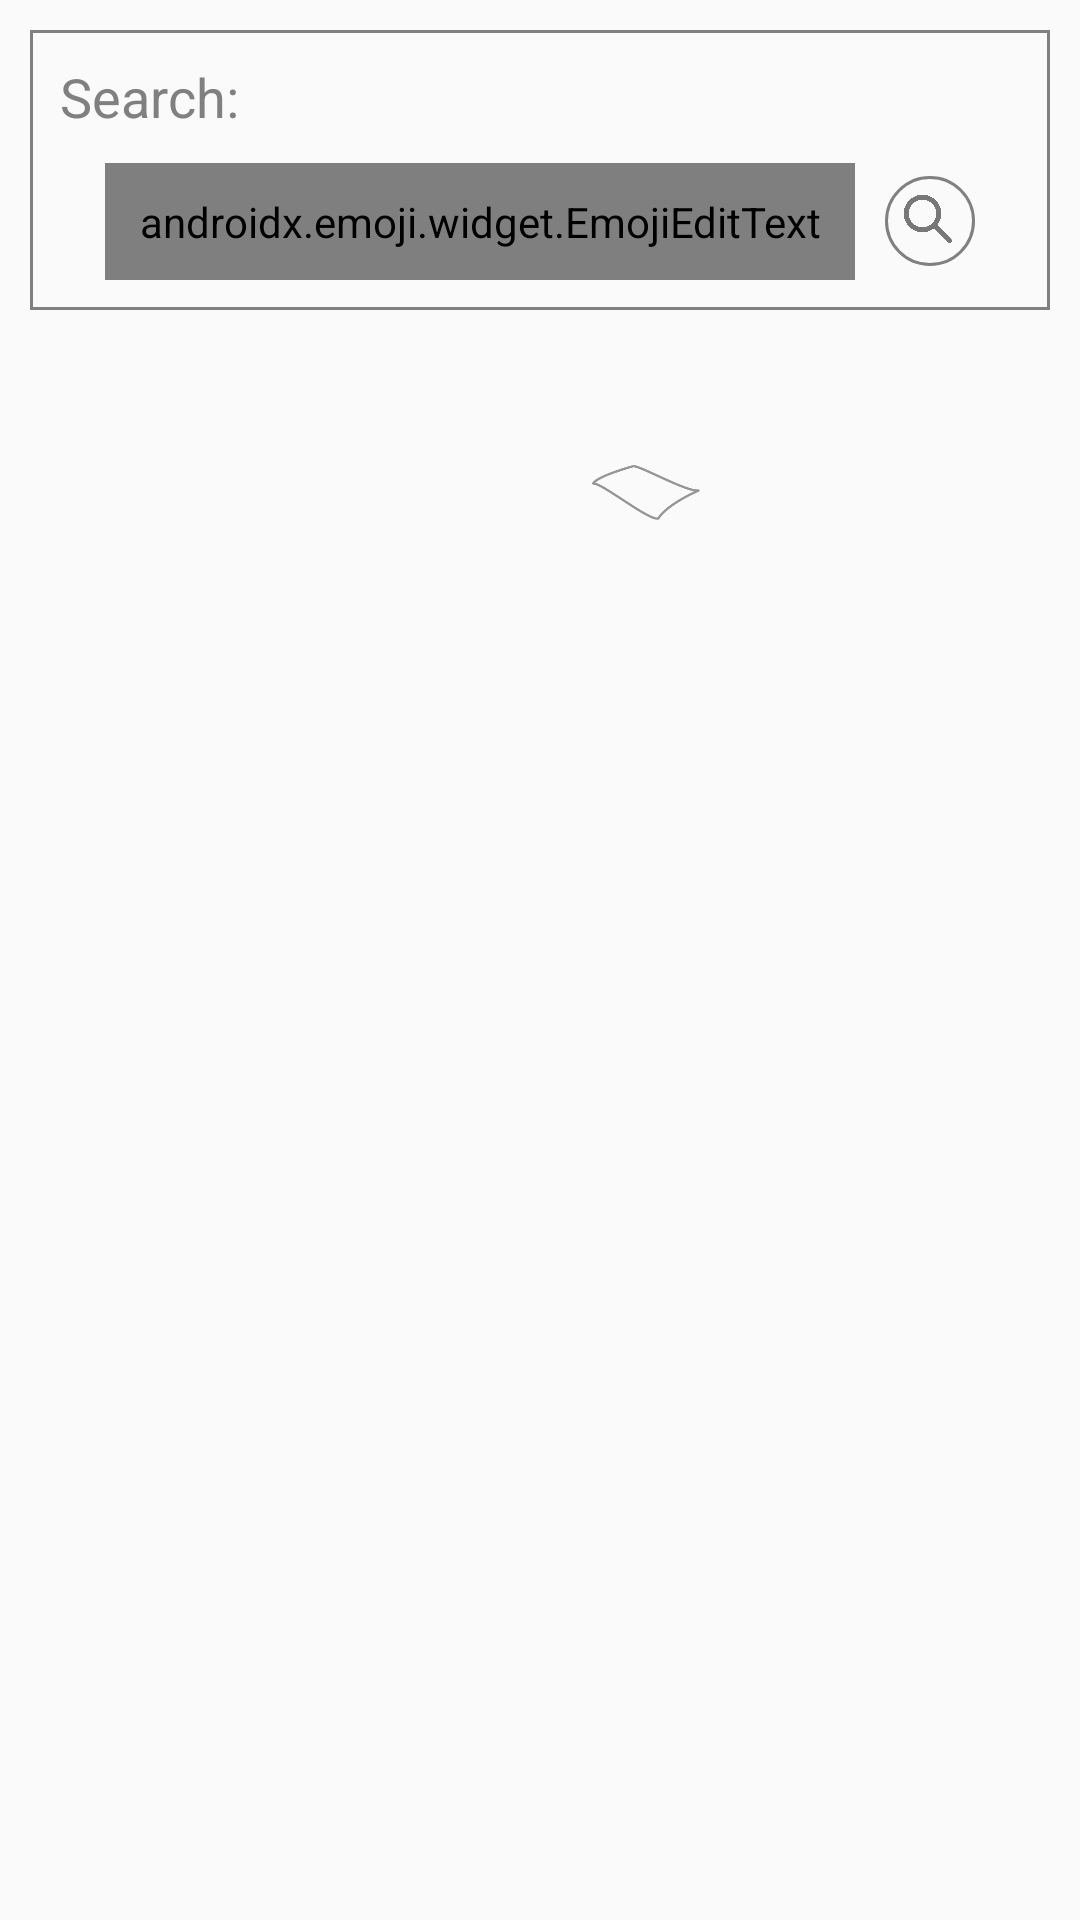

Screen size 1080w x 1920h. Icon name, then its box in pixels as (x1, y1, x2, y2):
animation no results: (592, 465, 700, 520)
